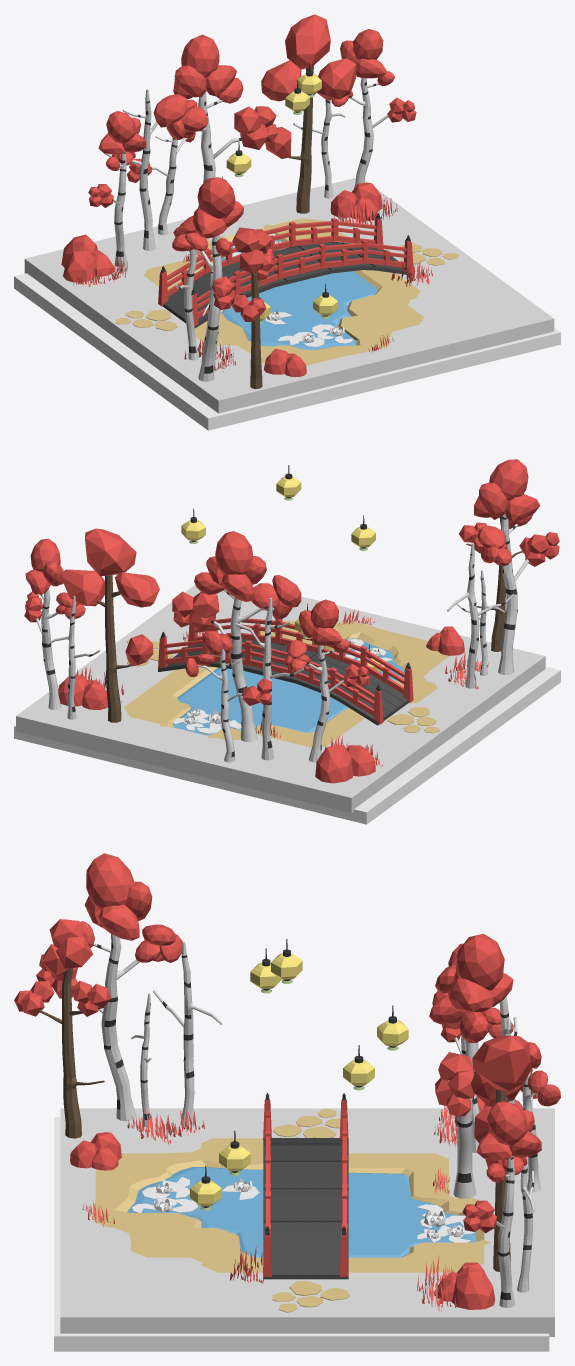
The model's file is example.glb.
3 renders of one model, top to bottom at view 1: azimuth 30°, elevation 25°; view 2: azimuth 150°, elevation 25°; view 3: azimuth 270°, elevation 25°, orthographic. The views are drawn at different scales.
Parts seen in each view (by area): view 1: Cube, Cube.005, Icosphere.016, Circle, Plane.003, Cylinder.005, Cylinder.003, Cylinder.001, Icosphere.010, Icosphere.017, Cylinder.006, Icosphere.018 (+4 smaller); view 2: Cube, Cube.005, Icosphere.016, Circle, Cylinder.005, Plane.003, Cylinder.001, Cylinder.003, Icosphere.001, Icosphere.017, Icosphere.010, Cylinder.006 (+8 smaller); view 3: Cube, Cube.005, Plane.003, Icosphere.016, Cylinder.005, Icosphere.010, Cylinder.003, Circle, Cylinder.004, Icosphere.018, Icosphere.001, Icosphere.002 (+10 smaller).
Part boxes in pixels (left/top/right/bottom): Cube: left=14, top=178, right=560, bottom=430; Cube.005: left=158, top=213, right=412, bottom=328; Icosphere.016: left=153, top=34, right=277, bottom=254; Circle: left=261, top=14, right=356, bottom=213; Plane.003: left=221, top=239, right=377, bottom=349; Cylinder.005: left=172, top=177, right=243, bottom=381; Cylinder.003: left=326, top=29, right=416, bottom=188; Cylinder.001: left=88, top=111, right=146, bottom=267; Icosphere.010: left=231, top=227, right=274, bottom=389; Icosphere.017: left=61, top=234, right=114, bottom=282; Cylinder.006: left=103, top=89, right=157, bottom=250; Icosphere.018: left=330, top=182, right=382, bottom=220; Cube: left=14, top=584, right=560, bottom=824; Cube.005: left=158, top=618, right=413, bottom=725; Icosphere.016: left=172, top=531, right=301, bottom=742; Circle: left=62, top=528, right=159, bottom=722; Cylinder.005: left=474, top=459, right=559, bottom=674; Plane.003: left=172, top=638, right=404, bottom=735; Cylinder.001: left=284, top=599, right=369, bottom=762; Cylinder.003: left=24, top=538, right=85, bottom=709; Icosphere.001: left=185, top=630, right=271, bottom=762; Icosphere.017: left=315, top=744, right=375, bottom=783; Icosphere.010: left=459, top=493, right=545, bottom=651; Cylinder.006: left=235, top=597, right=303, bottom=760; Cube: left=54, top=1108, right=554, bottom=1351; Cube.005: left=263, top=1093, right=348, bottom=1279; Plane.003: left=127, top=1167, right=475, bottom=1257; Icosphere.016: left=429, top=933, right=513, bottom=1198; Cylinder.005: left=36, top=853, right=182, bottom=1121; Icosphere.010: left=14, top=919, right=111, bottom=1138; Cylinder.003: left=462, top=1101, right=541, bottom=1307; Circle: left=470, top=1035, right=531, bottom=1271; Cylinder.004: left=153, top=941, right=221, bottom=1126; Icosphere.018: left=434, top=1262, right=495, bottom=1309; Icosphere.001: left=520, top=1042, right=560, bottom=1192; Icosphere.002: left=70, top=1132, right=121, bottom=1170.
Size of the model in its own units: 11.36 by 7.01 by 11.37.
